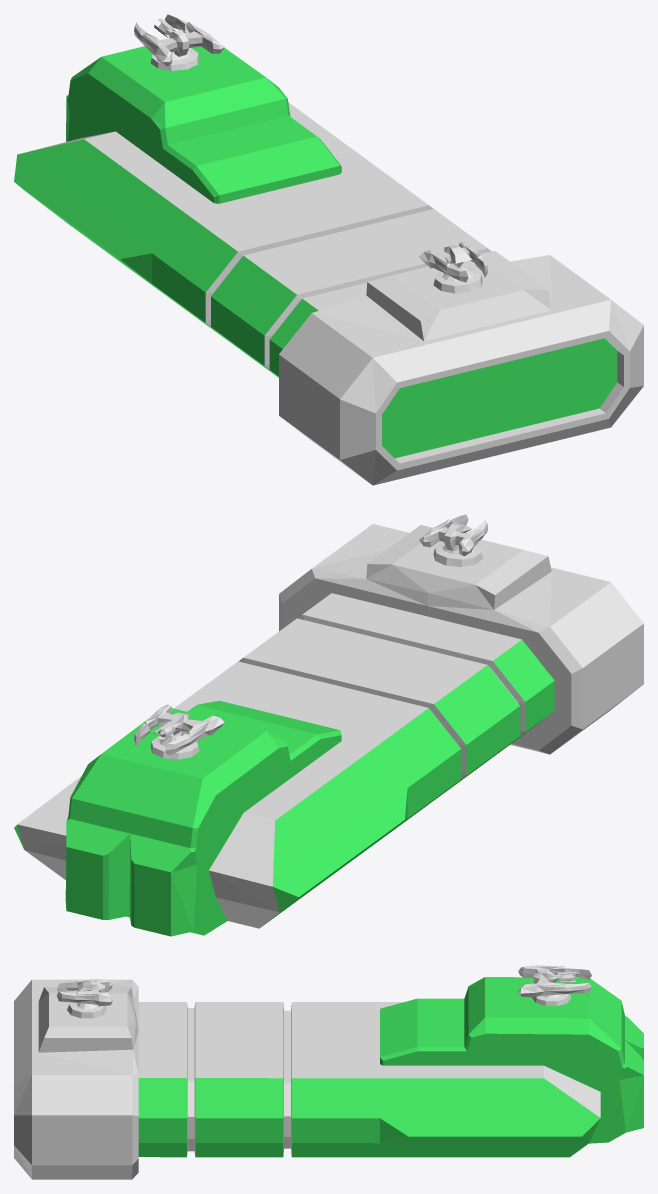
Rendered from WW_Imperial_CargoFrigate_Vozchik.fbx.
3 renders of one model, top to bottom at view 1: azimuth 30°, elevation 25°; view 2: azimuth 150°, elevation 25°; view 3: azimuth 270°, elevation 25°, orthographic. The views are drawn at different scales.
Parts seen in each view (by area): view 1: CargoIndustrialFrigate_Hull_72m_MIRROR_SOURCE_HALF.001, CargoIndustrialFrigate_Turret_MiningBeam_Single.001, CargoIndustrialFrigate_Turret_Magnet_Single.001, CargoIndustrialFrigate_Base_Cone_S.002; view 2: CargoIndustrialFrigate_Hull_72m_MIRROR_SOURCE_HALF.001, CargoIndustrialFrigate_Turret_MiningBeam_Single.001, CargoIndustrialFrigate_Turret_Magnet_Single.001, CargoIndustrialFrigate_Base_Cone_S.002, CargoIndustrialFrigate_Base_Cone_S.003; view 3: CargoIndustrialFrigate_Hull_72m_MIRROR_SOURCE_HALF.001, CargoIndustrialFrigate_Turret_MiningBeam_Single.001, CargoIndustrialFrigate_Turret_Magnet_Single.001, CargoIndustrialFrigate_Base_Cone_S.002, CargoIndustrialFrigate_Base_Cone_S.003.
Boxes of the visible parts, x1=… form: CargoIndustrialFrigate_Hull_72m_MIRROR_SOURCE_HALF.001: x1=14, y1=46, x2=643, y2=485; CargoIndustrialFrigate_Turret_MiningBeam_Single.001: x1=134, y1=14, x2=224, y2=66; CargoIndustrialFrigate_Turret_Magnet_Single.001: x1=419, y1=241, x2=487, y2=282; CargoIndustrialFrigate_Base_Cone_S.002: x1=433, y1=265, x2=482, y2=293; CargoIndustrialFrigate_Hull_72m_MIRROR_SOURCE_HALF.001: x1=14, y1=524, x2=643, y2=936; CargoIndustrialFrigate_Turret_MiningBeam_Single.001: x1=134, y1=704, x2=224, y2=755; CargoIndustrialFrigate_Turret_Magnet_Single.001: x1=419, y1=514, x2=487, y2=556; CargoIndustrialFrigate_Base_Cone_S.002: x1=433, y1=542, x2=482, y2=567; CargoIndustrialFrigate_Base_Cone_S.003: x1=150, y1=733, x2=199, y2=759; CargoIndustrialFrigate_Hull_72m_MIRROR_SOURCE_HALF.001: x1=14, y1=977, x2=643, y2=1179; CargoIndustrialFrigate_Turret_MiningBeam_Single.001: x1=518, y1=965, x2=591, y2=997; CargoIndustrialFrigate_Turret_Magnet_Single.001: x1=56, y1=979, x2=112, y2=1006; CargoIndustrialFrigate_Base_Cone_S.002: x1=67, y1=1002, x2=107, y2=1018; CargoIndustrialFrigate_Base_Cone_S.003: x1=532, y1=994, x2=571, y2=1005.
Size of the model in its own units: 27.07 by 16.66 by 59.28.
